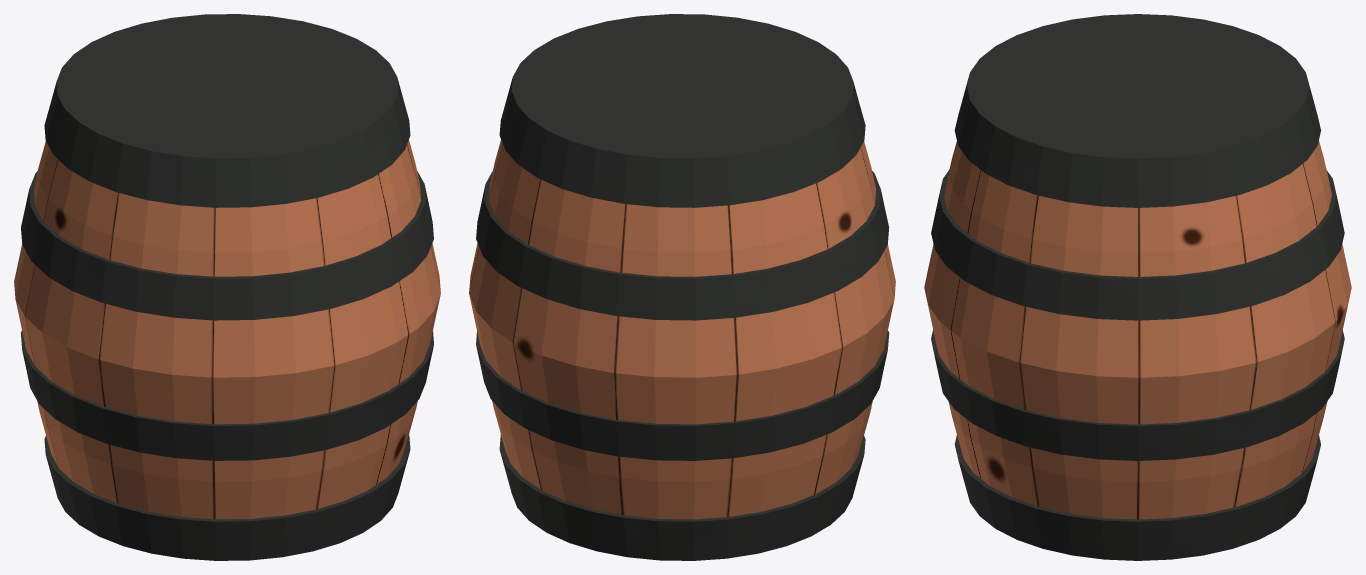
File: Barrel.glb
3 views of the same model, side by side, from view 1: azimuth 30°, elevation 25°; view 2: azimuth 150°, elevation 25°; view 3: azimuth 270°, elevation 25° (orthographic).
Bounding box in the file's own units: 0.3869 × 0.4018 × 0.3869.
Materials: 2 (1 with a texture image).
